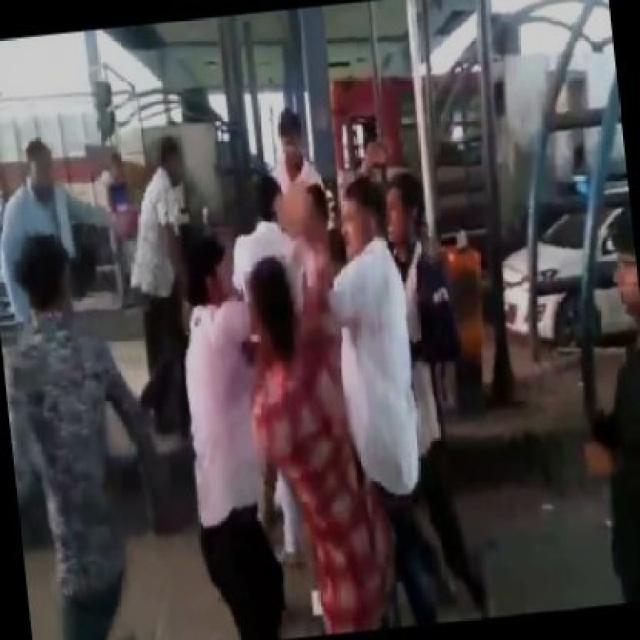fight: (174, 178, 452, 640)
non-fight: (0, 234, 159, 640), (376, 181, 504, 628), (0, 137, 111, 331), (133, 139, 200, 441)
